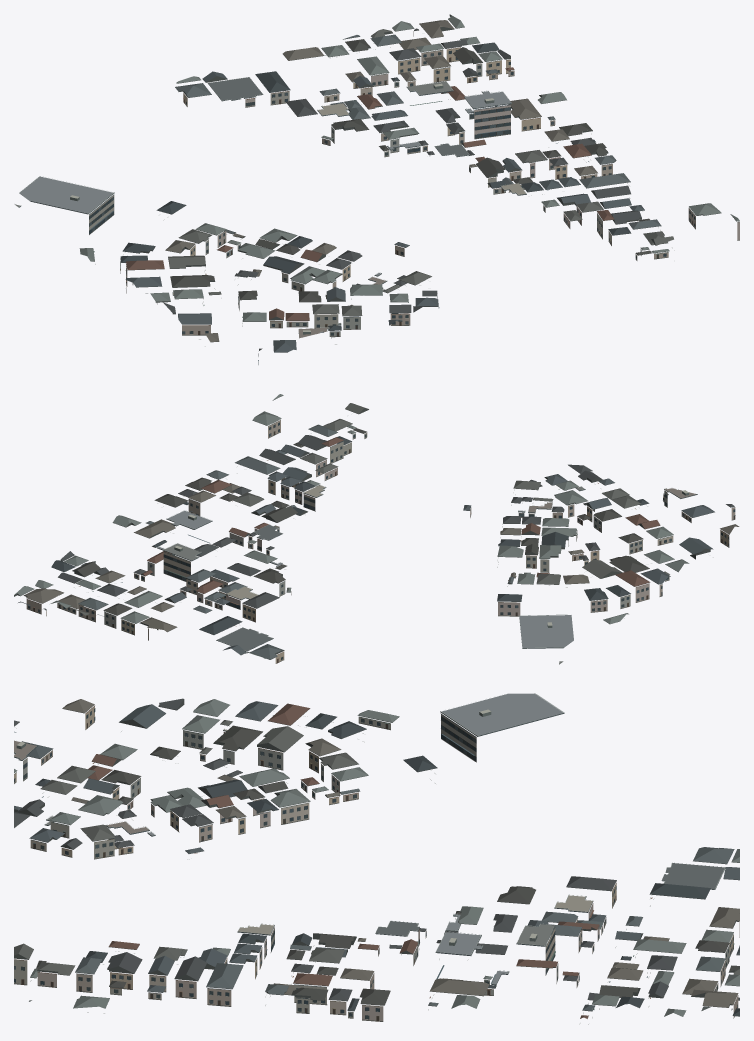
3 views of the same model, one above another, from view 1: azimuth 30°, elevation 25°; view 2: azimuth 150°, elevation 25°; view 3: azimuth 270°, elevation 25° (orthographic). The views are drawn at different scales.
Visible parts, largest first — view 1: r0-c3; view 2: r0-c3; view 3: r0-c3.
Part boxes in pixels (left/top/right/bottom): r0-c3: left=14, top=14, right=739, bottom=364; r0-c3: left=14, top=394, right=739, bottom=664; r0-c3: left=14, top=693, right=739, bottom=1024.
Bounding box in the file's own units: 250 × 16.25 × 250.
